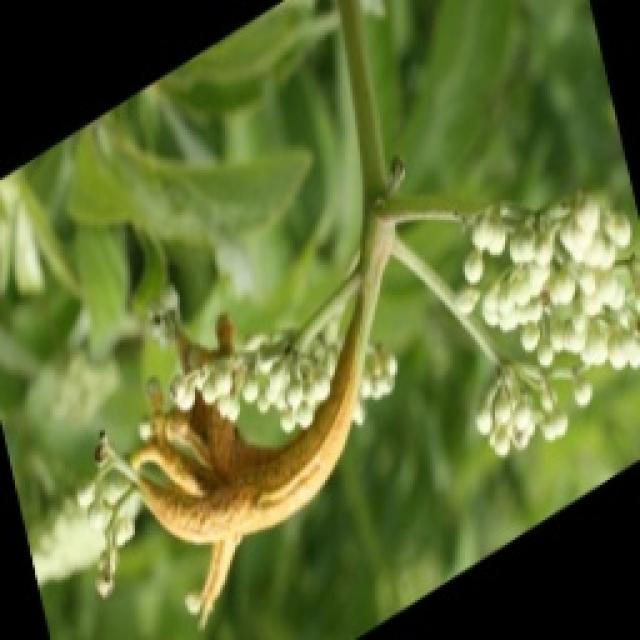Elderberry_rust: (88, 268, 400, 628)
